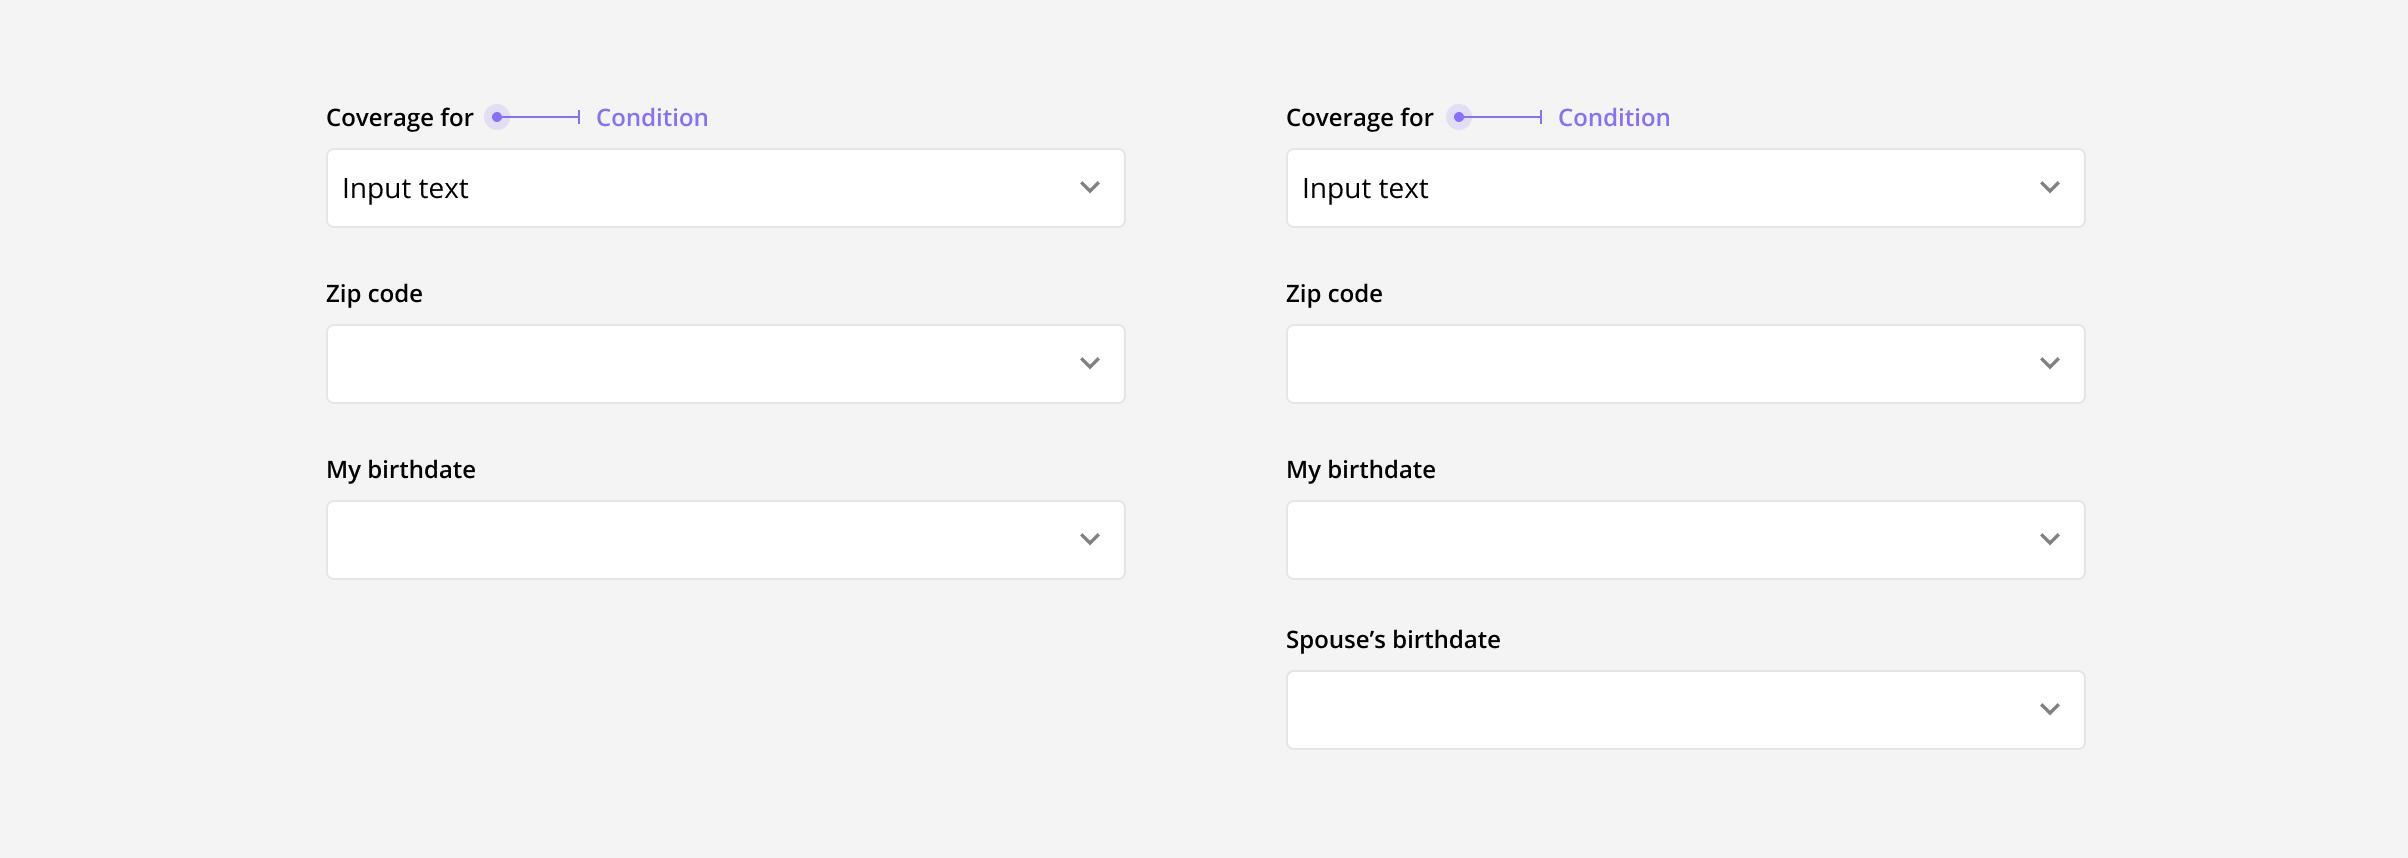dropdown: (324, 494, 1126, 586), (1287, 666, 2089, 757), (322, 146, 1129, 233), (1281, 499, 2085, 585), (322, 324, 1133, 408), (1284, 322, 2085, 407), (1285, 147, 2089, 229)
label: (313, 100, 729, 137), (1282, 100, 1682, 138), (1282, 625, 1510, 655), (1278, 450, 1445, 490), (313, 272, 439, 316), (319, 454, 491, 485), (1278, 279, 1401, 312)
